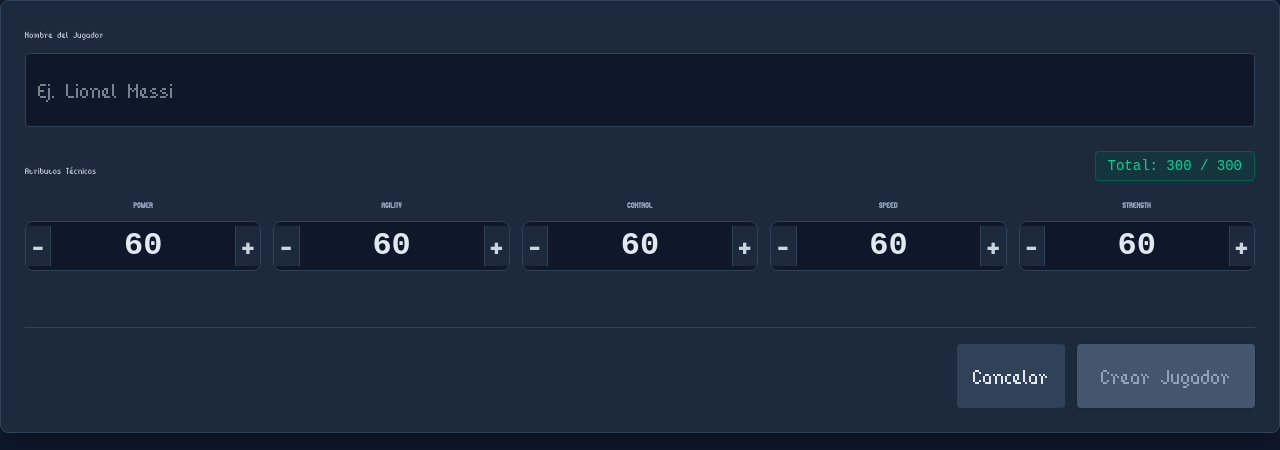
Test: PlayerForm Component › deshabilita el submit y muestra advertencia si la sumatoria supera 300
The width and height of the screenshot is (1280, 450).
Escribimos el nombre para que ese no sea el motivo del bloqueo
Type "Test" into the field labelled "Nombre del Jugador" at (640, 90), box [25,53,1255,127]
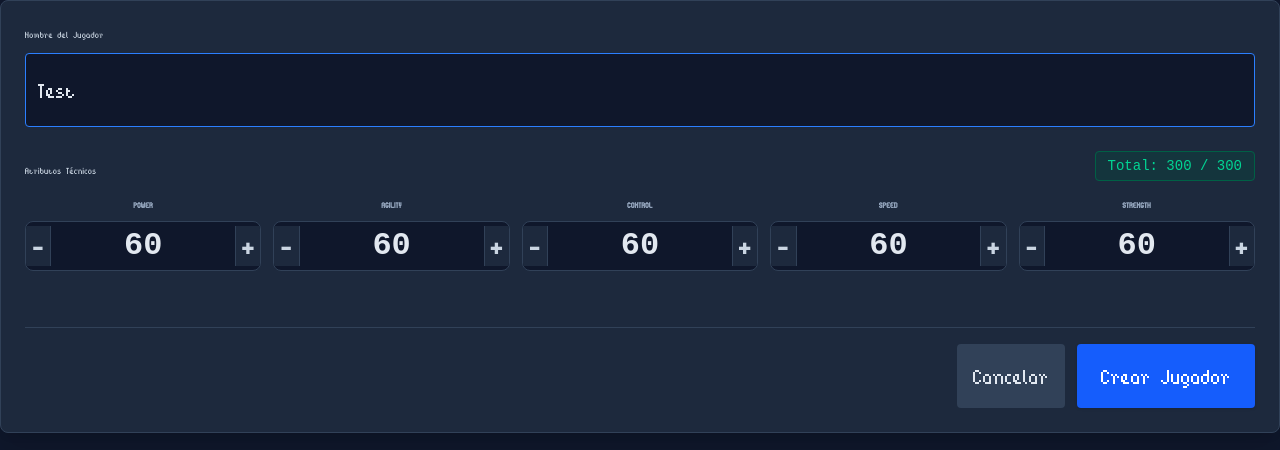
Click the button "+" below "Power" at (248, 246), box [235,226,260,266]
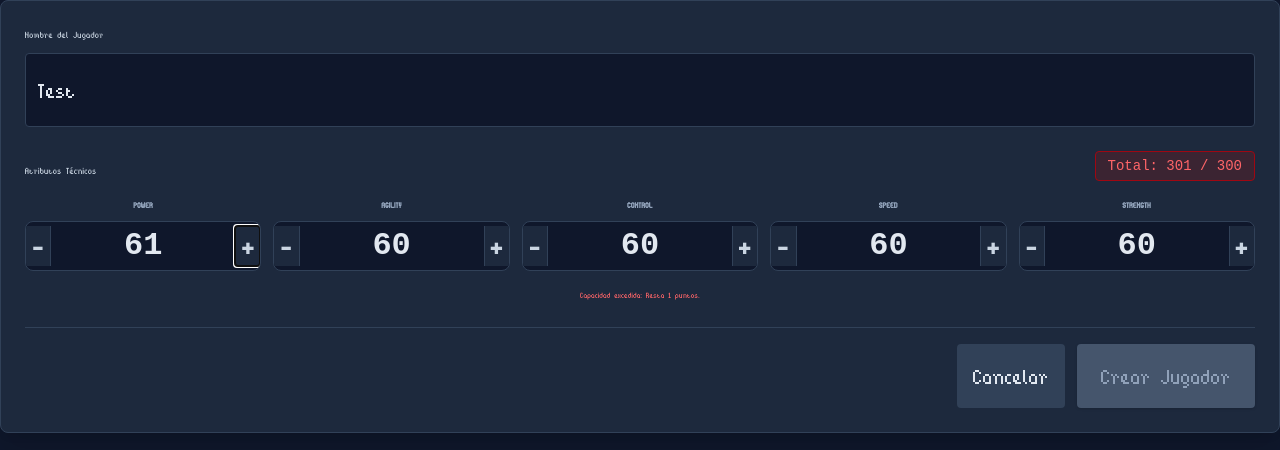
expect the text "Capacidad excedida: Resta 1 puntos." is shown: met, box [580,290,700,300]
expect the button "Crear Jugador" is disabled: met, box [1077,344,1255,408]
